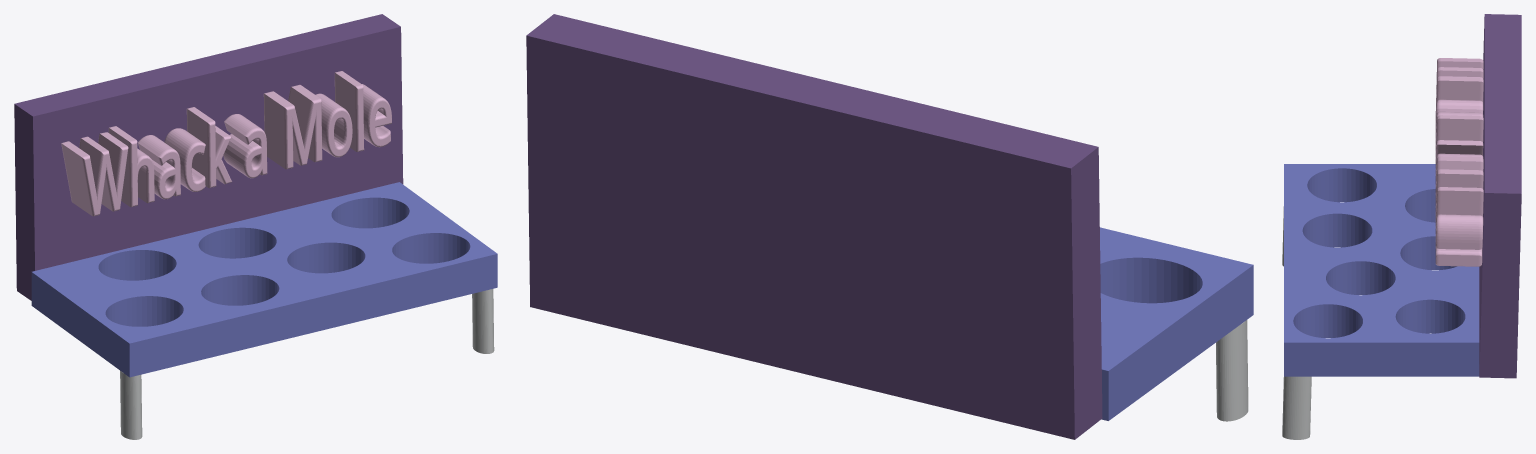
Rendered from board.glb.
3 views of the same model, side by side, from view 1: azimuth 30°, elevation 25°; view 2: azimuth 150°, elevation 25°; view 3: azimuth 270°, elevation 25° (orthographic). The views are drawn at different scales.
Visible parts, largest first — view 1: Mesh_Mesh_head_geo.001_lambert2SG.001; view 2: Mesh_Mesh_head_geo.001_lambert2SG.001; view 3: Mesh_Mesh_head_geo.001_lambert2SG.001.
Part boxes in pixels (x1,y1,x2,y2): Mesh_Mesh_head_geo.001_lambert2SG.001: (14,14,497,439); Mesh_Mesh_head_geo.001_lambert2SG.001: (526,14,1253,439); Mesh_Mesh_head_geo.001_lambert2SG.001: (1282,14,1521,439).
Size of the model in its own units: 0.092 by 0.0591 by 0.0515.
